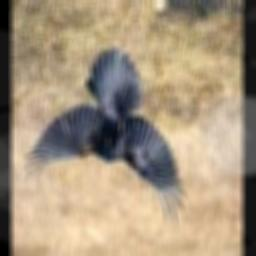Crow: (23, 49, 187, 225)
